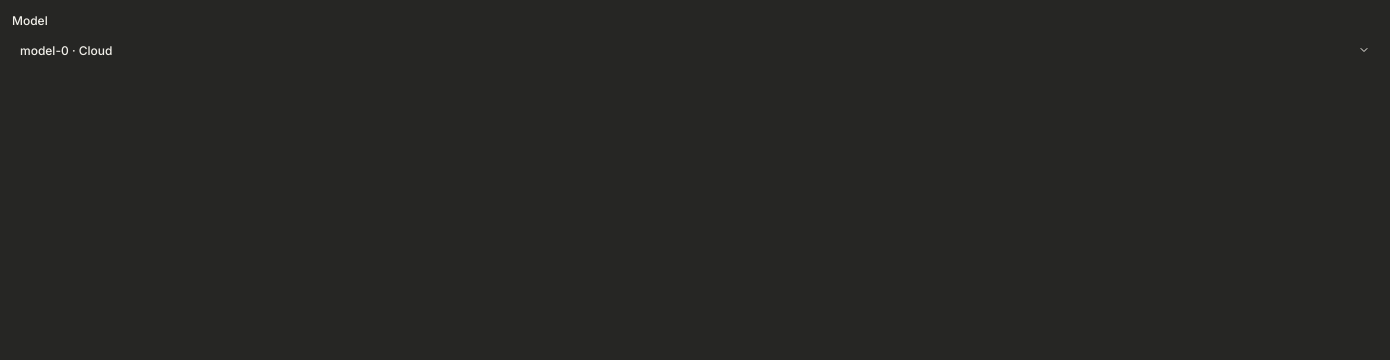
Test: filters a dynamic catalog while keeping the selected model and default action reachable
Later steps or results of the test are not shown.
Click the button "model-0 · Cloud": (66, 50) [12,33,1378,67]
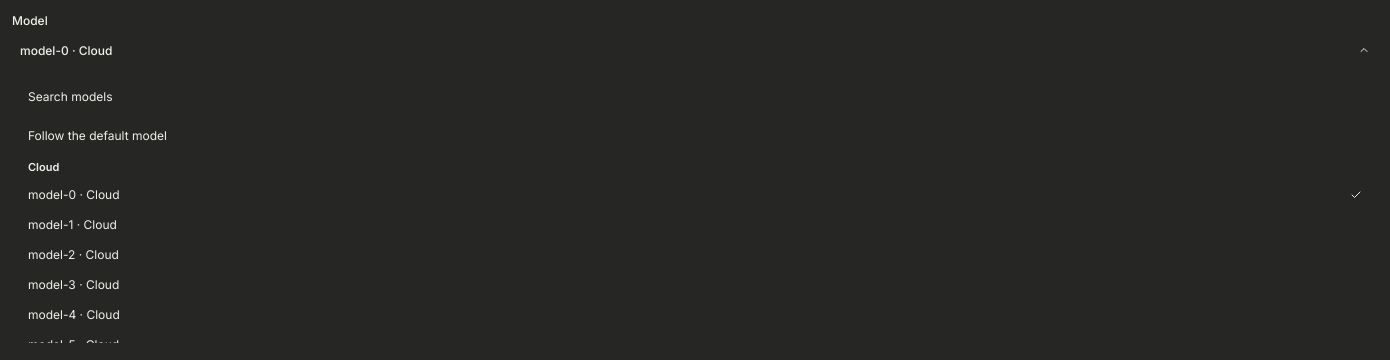
In the search field labelled "Search models": (695, 96) [20,79,1370,113], type "model-11"
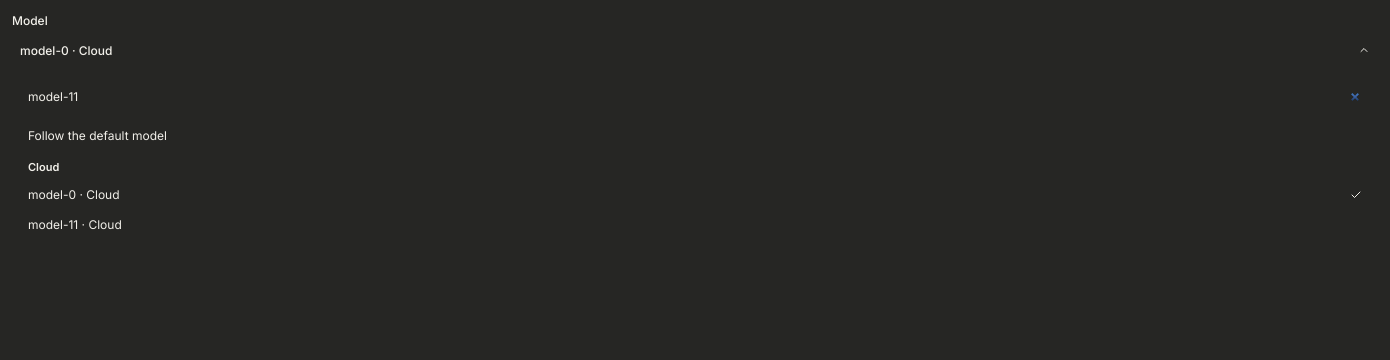
Check: the option "model-0 · Cloud" is shown, box [20,180,1370,210]
Check: the option "model-11 · Cloud" is shown, box [20,210,1370,240]
Check: the option "model-2 · Cloud" is gone
